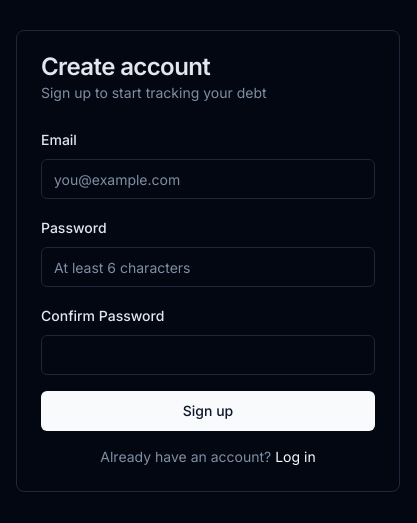
Test: RegisterPage › shows duplicate email error
Check: the heading "Create account" is shown, box [41,52,210,81]
Type "test@example.com" into the field labelled "Email" at (208, 179), box [41,159,375,199]
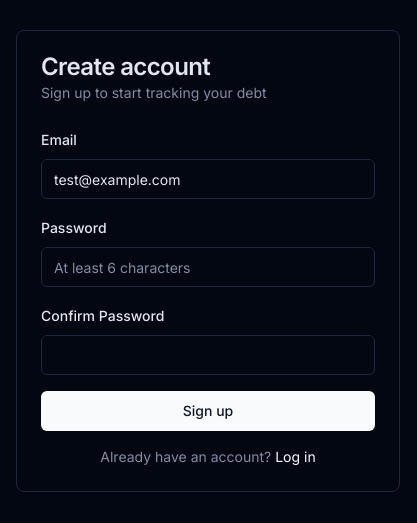
Type "password123" into the password field labelled "Password" at (208, 267), box [41,247,375,287]
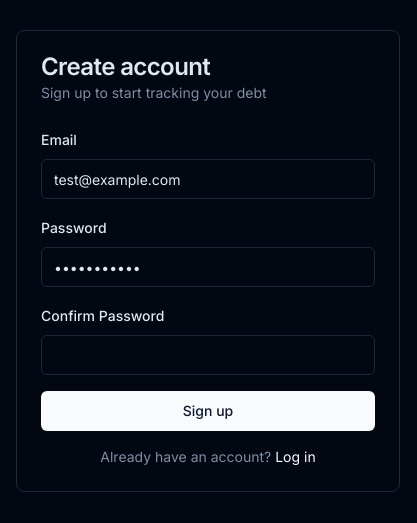
Type "password123" into the password field labelled "Confirm Password" at (208, 355), box [41,335,375,375]
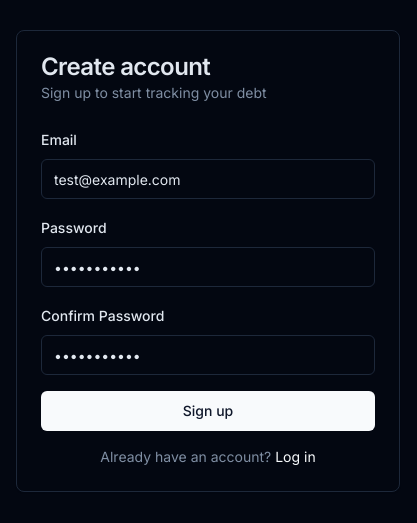
Click the button "Sign up" at (208, 411), box [41,391,375,431]
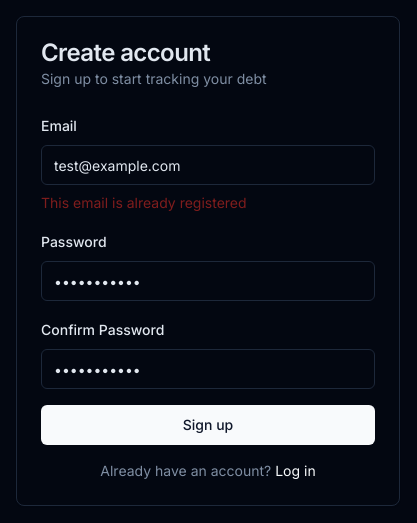
Check: the text "This email is already registered" is shown, box [41,194,247,211]
